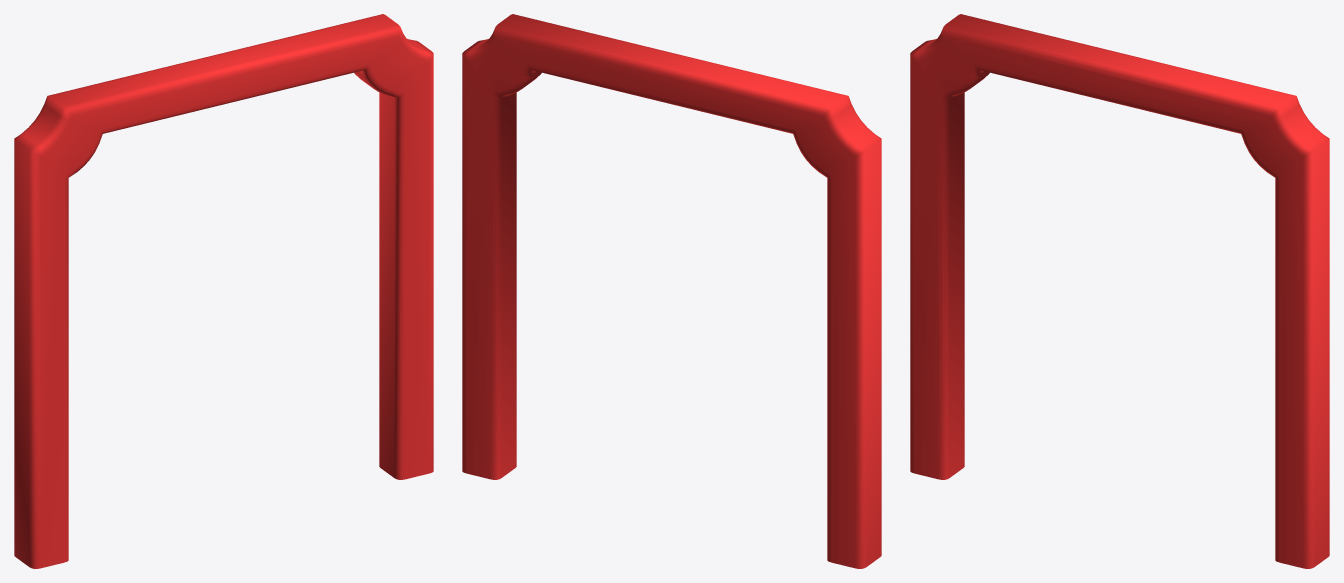
File: door.fbx
The picture shows the model from 3 angles, left to right: view 1: azimuth 30°, elevation 25°; view 2: azimuth 150°, elevation 25°; view 3: azimuth 330°, elevation 25°; orthographic projection.
Parts seen in each view (by area): view 1: Door; view 2: Door; view 3: Door.
Boxes of the visible parts, x1,y1,x2,y2 form: Door: (14, 14, 433, 568); Door: (462, 14, 881, 568); Door: (910, 14, 1329, 568).
Bounding box in the file's own units: 110 × 118 × 10.44.
